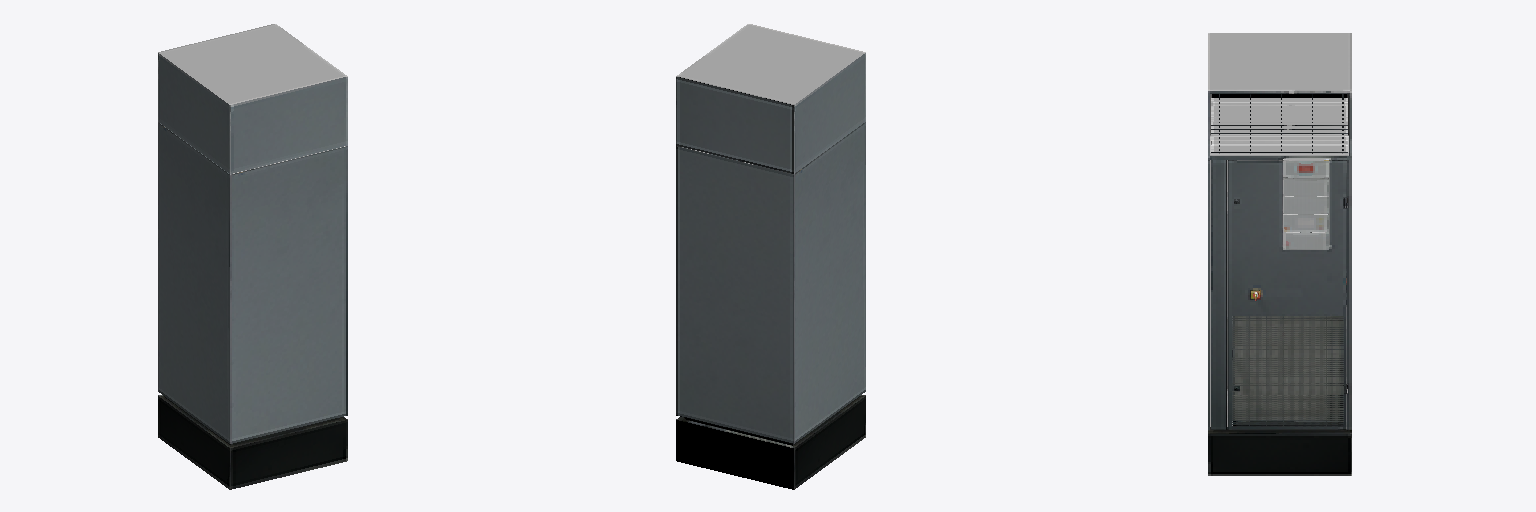
3 renders of one model, left to right at view 1: azimuth 30°, elevation 25°; view 2: azimuth 150°, elevation 25°; view 3: azimuth 270°, elevation 25°, orthographic.
Parts seen in each view (by area): view 1: set3; view 2: set3; view 3: set3.
Boxes of the visible parts, box(x1,y1,x2,y2) form: set3: box(158, 24, 347, 489); set3: box(676, 24, 865, 489); set3: box(1208, 33, 1351, 475).
Bounding box in the file's own units: 0.9468 × 2.8 × 0.9536.
Materials: 1 (1 with a texture image).